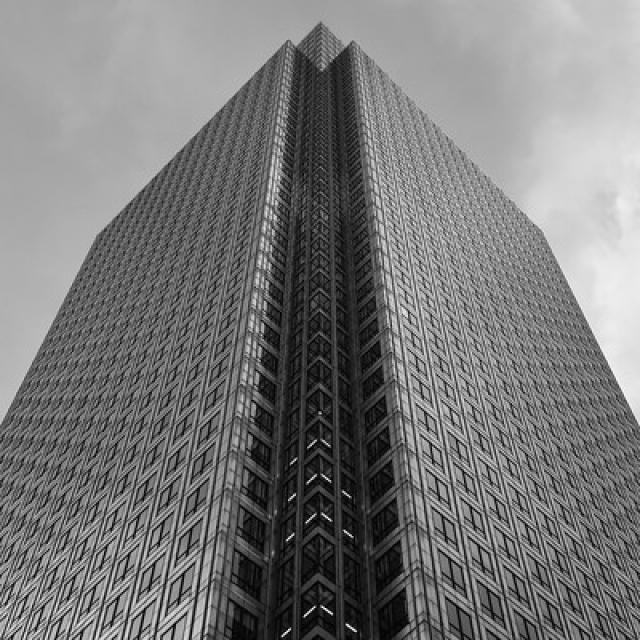Normal_building: (1, 17, 640, 640)
